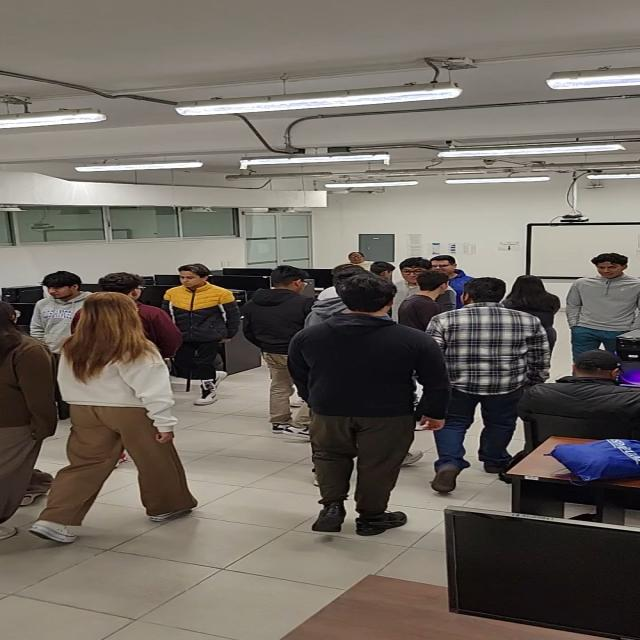Persona: (283, 273, 451, 537), (30, 290, 202, 544), (421, 278, 547, 495), (0, 300, 63, 546), (240, 264, 311, 445), (159, 264, 245, 405), (561, 251, 640, 367), (91, 274, 189, 365), (299, 265, 375, 349), (29, 270, 88, 368), (504, 274, 556, 335), (391, 258, 437, 315), (431, 252, 466, 280)
